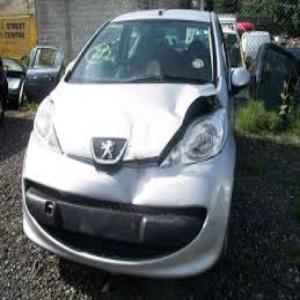bonnet: (119, 86, 204, 158)
